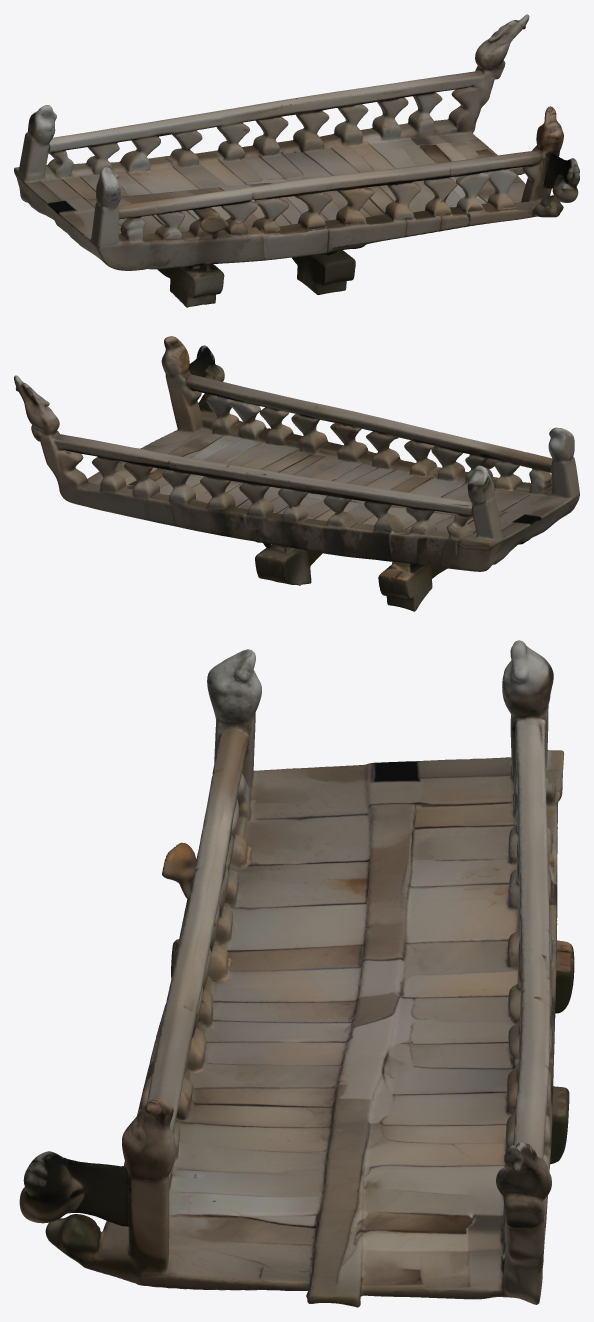
Rendered from bridge.fbx.
3 renders of one model, top to bottom at view 1: azimuth 30°, elevation 25°; view 2: azimuth 150°, elevation 25°; view 3: azimuth 270°, elevation 25°, orthographic. The views are drawn at different scales.
Visible parts, largest first — view 1: tripo_node_6e3493a5-34ba-4c37-887b-59ce9452f963; view 2: tripo_node_6e3493a5-34ba-4c37-887b-59ce9452f963; view 3: tripo_node_6e3493a5-34ba-4c37-887b-59ce9452f963.
Boxes of the visible parts, x1,y1,x2,y2 form: tripo_node_6e3493a5-34ba-4c37-887b-59ce9452f963: [14, 14, 579, 307]; tripo_node_6e3493a5-34ba-4c37-887b-59ce9452f963: [14, 336, 579, 611]; tripo_node_6e3493a5-34ba-4c37-887b-59ce9452f963: [19, 640, 574, 1307].
Size of the model in its own units: 100 by 33.05 by 48.77.
1 material, 1 textured.
